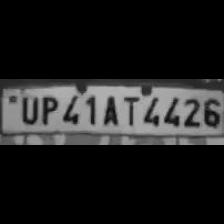1: (80, 92, 98, 124)
2: (180, 94, 200, 128)
4: (58, 92, 82, 124), (140, 92, 160, 126), (160, 93, 180, 126)
6: (200, 94, 222, 128)
A: (98, 92, 120, 125)
P: (36, 92, 58, 124)
T: (120, 92, 140, 125)
U: (17, 92, 39, 124)
